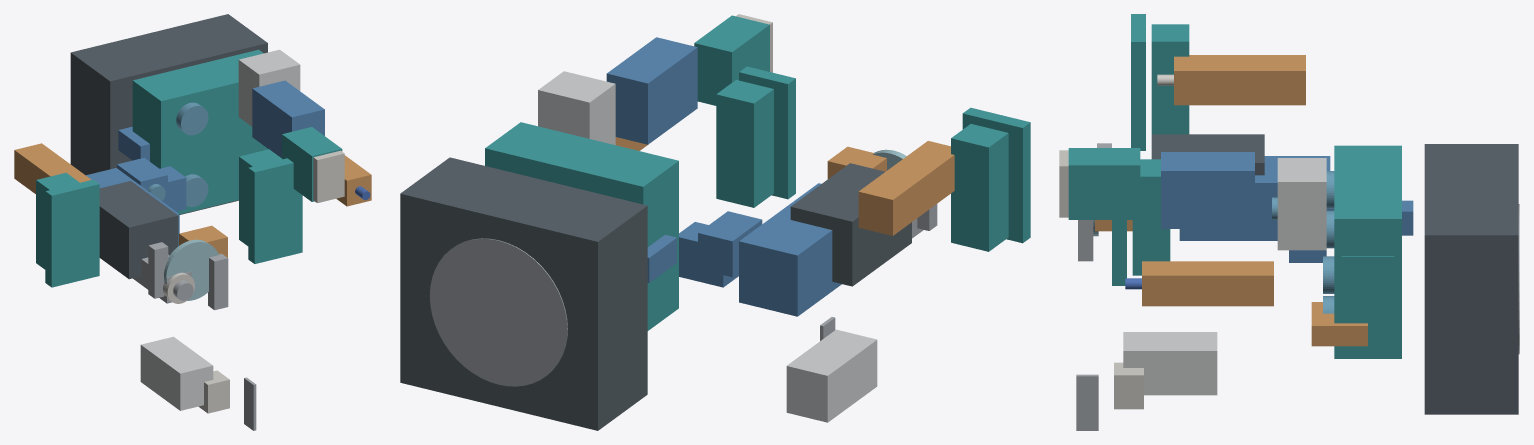
The model's file is dranmar_tumor_resection_tool_exploded.glb.
3 renders of one model, left to right at view 1: azimuth 30°, elevation 25°; view 2: azimuth 150°, elevation 25°; view 3: azimuth 270°, elevation 25°, orthographic. The views are drawn at different scales.
Parts seen in each view (by area): view 1: Mount_MountBody, SensorTurret_SensorTurretBody, AspiratorCarriage_AspiratorCarriageBody, LeftTraction_LeftPad, RightTraction_RightPad, ScissorCarriage_ScissorCarriageBody, UltrasoundPitch_UltrasoundPitchBody, UltrasoundCarriage_UltrasoundCarriageBody, UltrasoundCompliance_UltrasoundComplianceBody, RamanProbe_RamanProbeBody, BagDeployer_BagRing, UltrasoundCompliance_UltrasoundFace (+16 smaller); view 2: Mount_MountBody, Mount_MountRing, SensorTurret_SensorTurretBody, BagDeployer_BagDeployerBody, UltrasoundPitch_UltrasoundPitchBody, RightTraction_RightTractionBody, LeftTraction_LeftTractionBody, AspiratorCarriage_AspiratorCarriageBody, ScissorCarriage_ScissorCarriageBody, RamanProbe_RamanProbeBody, UltrasoundCarriage_UltrasoundCarriageBody, UltrasoundCompliance_UltrasoundComplianceBody (+6 smaller); view 3: Mount_MountBody, SensorTurret_SensorTurretBody, UltrasoundPitch_UltrasoundPitchBody, RamanProbe_RamanProbeBody, MarginMarker_MarginMarkerBody, ScissorCarriage_ScissorCarriageBody, UltrasoundCompliance_UltrasoundComplianceBody, UltrasoundCarriage_UltrasoundCarriageBody, LeftTraction_LeftTractionBody, RightTraction_RightTractionBody, BagDeployer_BagDeployerBody, AspiratorCarriage_AspiratorCarriageBody (+10 smaller).
Part boxes in pixels (<box>): Mount_MountBody: <box>70,14,267,214</box>; SensorTurret_SensorTurretBody: <box>132,49,268,214</box>; AspiratorCarriage_AspiratorCarriageBody: <box>99,181,178,279</box>; LeftTraction_LeftPad: <box>45,179,99,287</box>; RightTraction_RightPad: <box>248,158,302,263</box>; ScissorCarriage_ScissorCarriageBody: <box>140,336,213,410</box>; UltrasoundPitch_UltrasoundPitchBody: <box>252,80,324,158</box>; UltrasoundCarriage_UltrasoundCarriageBody: <box>238,49,300,126</box>; UltrasoundCompliance_UltrasoundComplianceBody: <box>282,127,342,201</box>; RamanProbe_RamanProbeBody: <box>14,143,91,193</box>; BagDeployer_BagRing: <box>164,239,218,300</box>; UltrasoundCompliance_UltrasoundFace: <box>313,150,344,202</box>; Mount_MountBody: <box>400,157,647,430</box>; Mount_MountRing: <box>429,238,567,386</box>; SensorTurret_SensorTurretBody: <box>485,122,678,330</box>; BagDeployer_BagDeployerBody: <box>739,183,841,316</box>; UltrasoundPitch_UltrasoundPitchBody: <box>606,37,697,144</box>; RightTraction_RightTractionBody: <box>716,80,773,207</box>; LeftTraction_LeftTractionBody: <box>951,124,1008,251</box>; AspiratorCarriage_AspiratorCarriageBody: <box>790,163,911,286</box>; ScissorCarriage_ScissorCarriageBody: <box>786,329,877,422</box>; RamanProbe_RamanProbeBody: <box>858,141,954,235</box>; UltrasoundCarriage_UltrasoundCarriageBody: <box>538,71,615,144</box>; UltrasoundCompliance_UltrasoundComplianceBody: <box>694,15,769,105</box>; Mount_MountBody: <box>1424,144,1518,414</box>; SensorTurret_SensorTurretBody: <box>1334,145,1401,358</box>; UltrasoundPitch_UltrasoundPitchBody: <box>1161,152,1254,228</box>; RamanProbe_RamanProbeBody: <box>1174,55,1305,105</box>; MarginMarker_MarginMarkerBody: <box>1142,261,1273,306</box>; ScissorCarriage_ScissorCarriageBody: <box>1123,332,1217,395</box>; UltrasoundCompliance_UltrasoundComplianceBody: <box>1068,148,1140,219</box>; UltrasoundCarriage_UltrasoundCarriageBody: <box>1277,158,1326,250</box>; LeftTraction_LeftTractionBody: <box>1151,24,1189,134</box>; RightTraction_RightTractionBody: <box>1132,159,1170,275</box>; BagDeployer_BagDeployerBody: <box>1179,156,1330,240</box>; AspiratorCarriage_AspiratorCarriageBody: <box>1151,134,1264,175</box>.
Bounding box in the file's own units: 0.2477 × 0.1897 × 0.2445.
